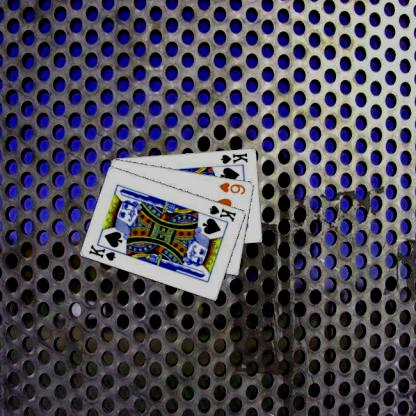6H: (216, 179, 247, 196)
KS: (86, 240, 122, 262), (207, 202, 237, 223), (218, 150, 249, 164)
